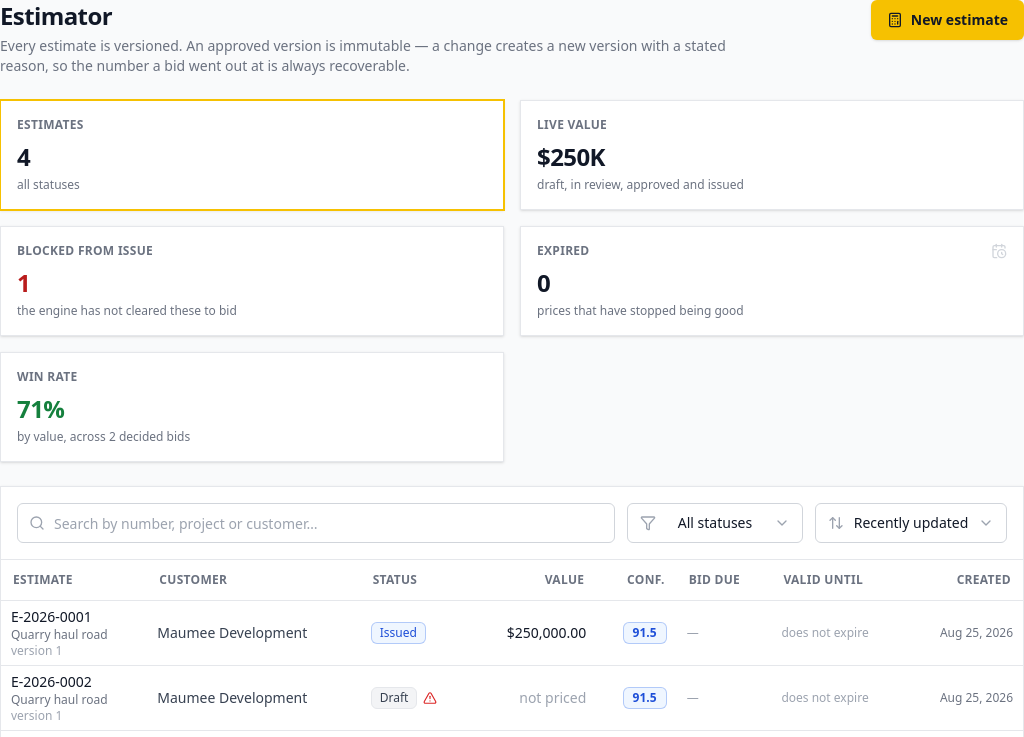
it: the estimating screen › the boxes across the top › shows the bids that were decided, from the win-rate tile
Expected: the link "E-2026-0001" is shown, [11, 606, 92, 626]
Click the button with aria-label "show the bids that were won or lost". click: (47, 376)
box: [0, 352, 504, 462]
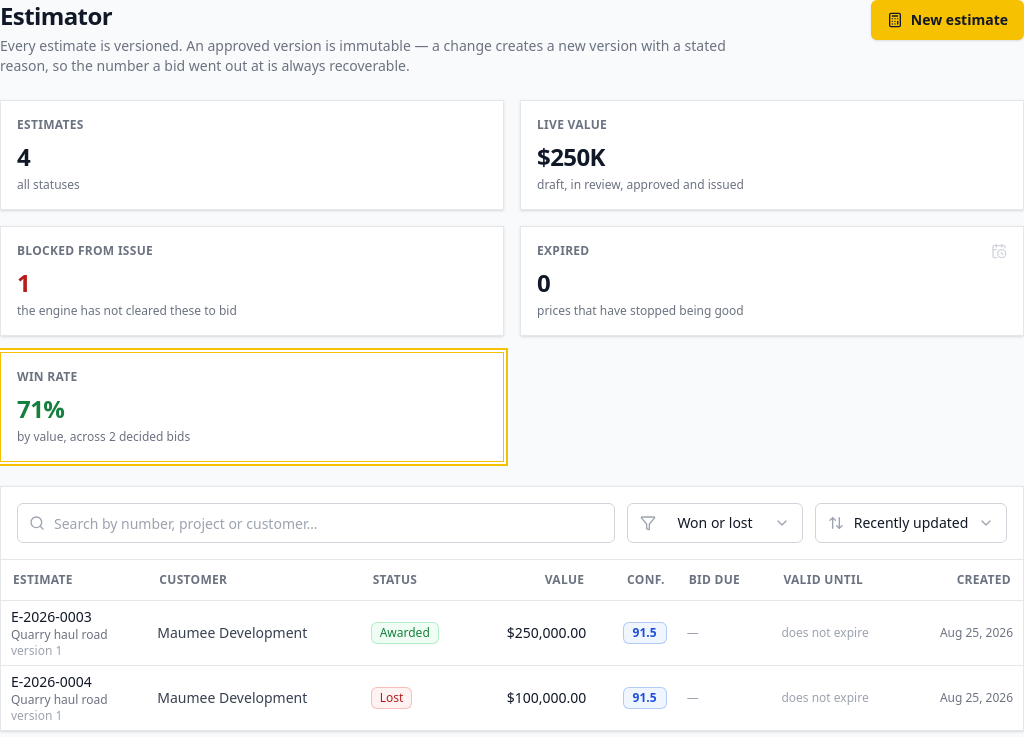
Expected: the link "E-2026-0003" is shown, [11, 606, 92, 626]
Result: the link "E-2026-0002" is gone
